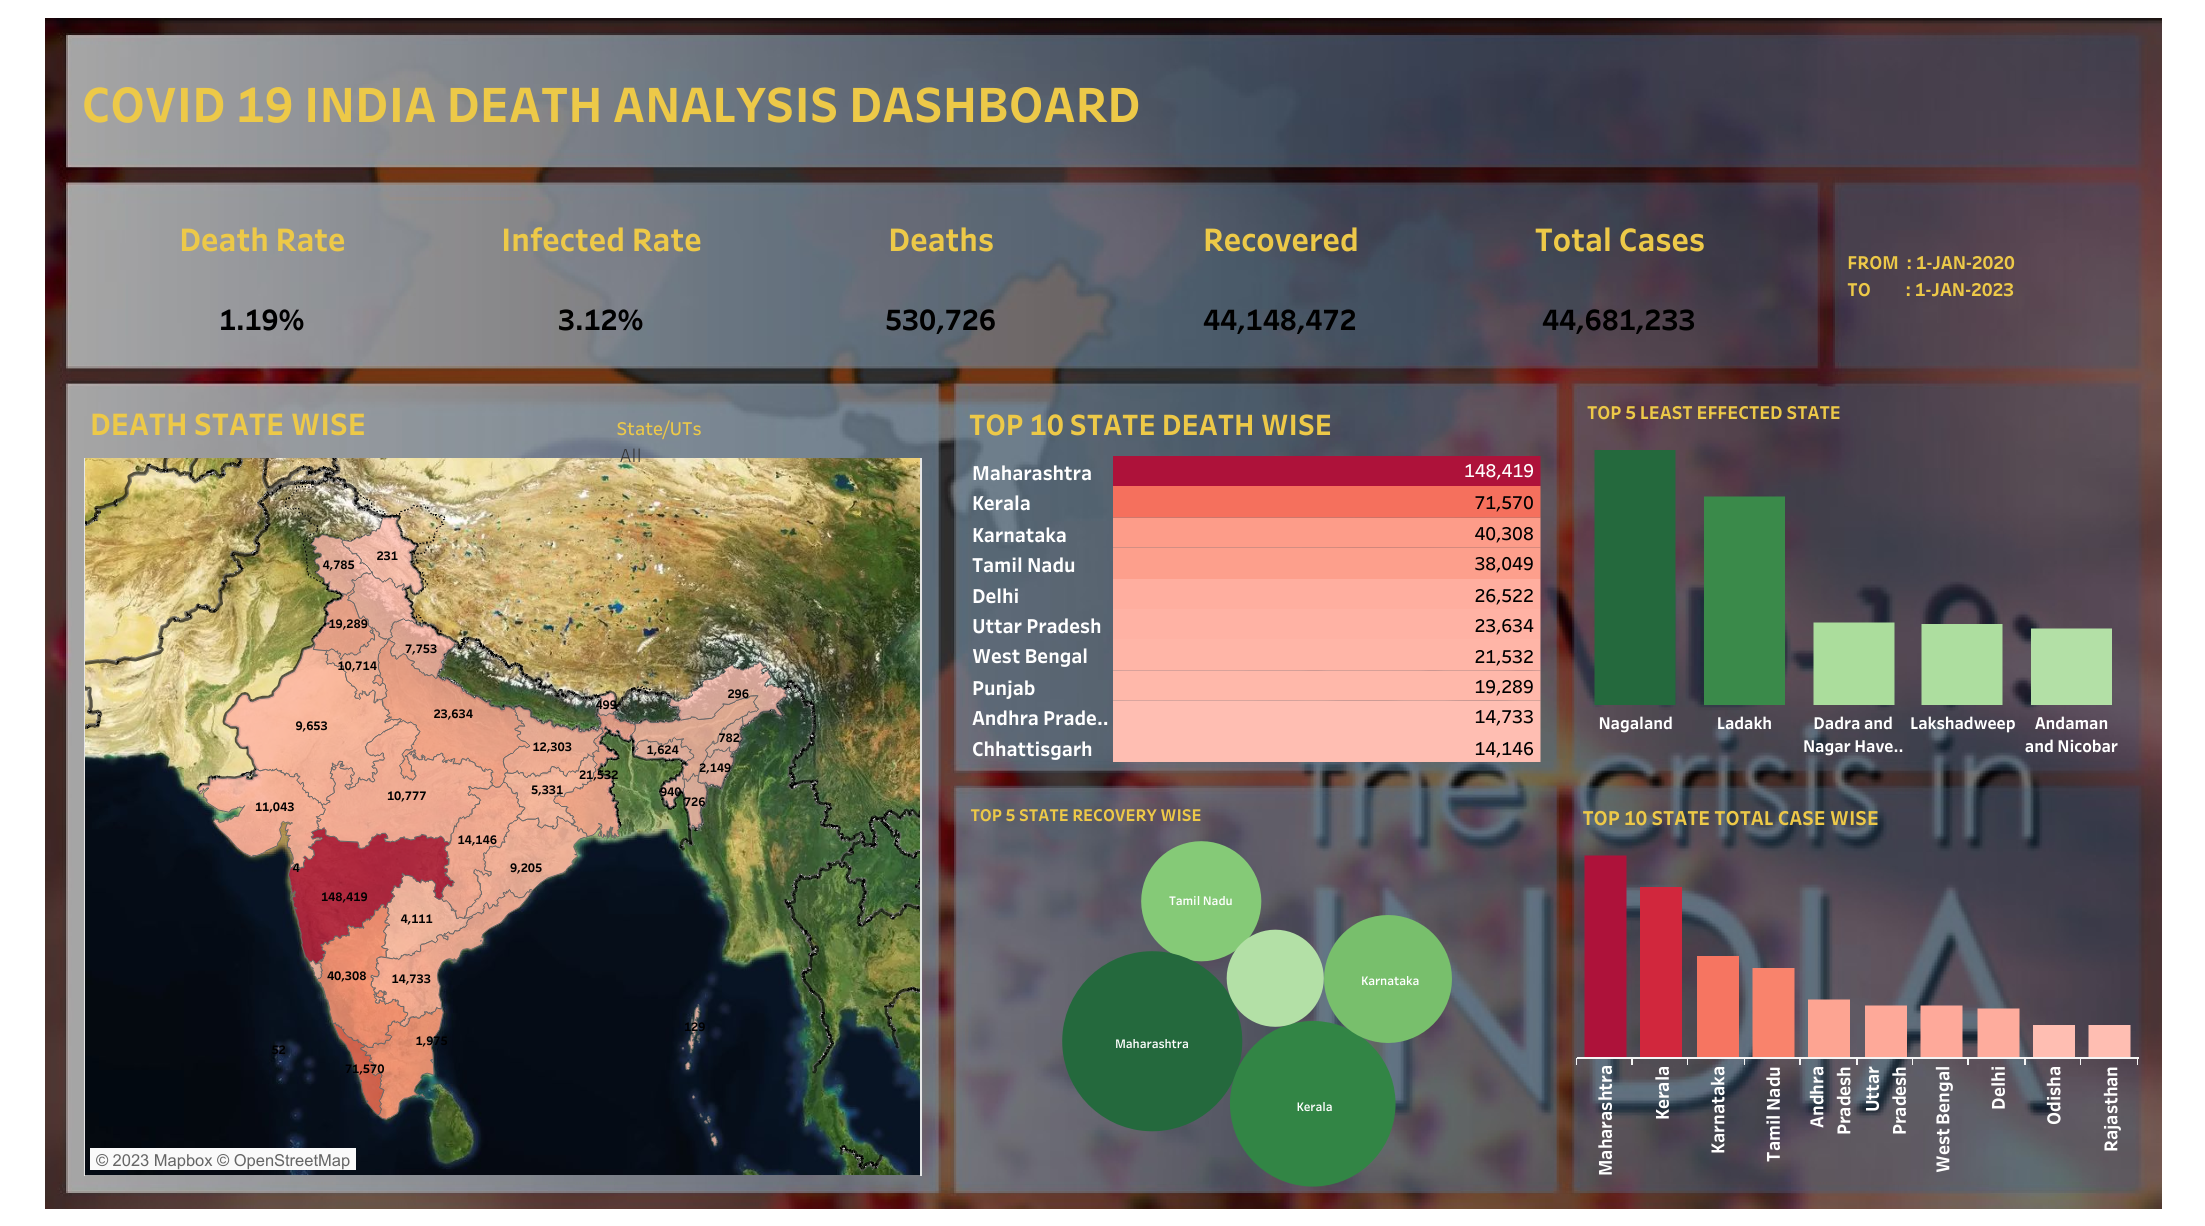

This screenshot's page, from the dashboard's own definition file:
{"tool":"tableau","page":{"name":"DASHBOARD ","canvas":[1471,818],"ordinal":0},"visuals":[{"type":"image","param":"Image/Slide1.JPG","box":[8,8,1455,802]},{"type":"text","box":[52,25,1161,85]},{"type":"text","box":[1229,127,192,111]},{"type":"worksheet","title":"KPI","mark":"Automatic","box":[61.8,130,1131.7,108]},{"type":"worksheet","title":"TOP 5 LEAST EFFECTED STATE","mark":"Automatic","rows":["Total Cases"],"cols":["State/UTs"],"box":[1054,259,363,251]},{"type":"worksheet","title":"DEATH STATE WISE ","mark":"Multipolygon","box":[56,262,559,522]},{"type":"worksheet","title":"TOP 10 STATES DEATH WISE ","mark":"Square","rows":["State/UTs"],"box":[642.3,263,384.4,245]},{"type":"filter","title":"DEATH STATE WISE ","param":"[federated.1m9xwus0zbmcqk115ik8g1nnnmon].[none:State/UTs:nk]","box":[411,275,193,110]},{"type":"worksheet","title":"TOP 5 STATE RECOVERY WISE","mark":"Circle","box":[643,529,389,262]},{"type":"worksheet","title":"TOP 10 STATE TOTAL CASE WISE","mark":"Automatic","rows":["Total Cases"],"cols":["State/UTs"],"box":[1051,529,374,256]}]}

Visuals, with their boxes in screenshot pixels (x1, y1, x2, y2), scaled from the page's 1471x818 canvas onto the 2205x1226 screenshot:
image: {"left": 12, "top": 12, "right": 2193, "bottom": 1214}
text: {"left": 78, "top": 37, "right": 1818, "bottom": 165}
text: {"left": 1842, "top": 190, "right": 2130, "bottom": 357}
"KPI" worksheet: {"left": 93, "top": 195, "right": 1789, "bottom": 357}
"TOP 5 LEAST EFFECTED STATE" worksheet: {"left": 1580, "top": 388, "right": 2124, "bottom": 764}
"DEATH STATE WISE " worksheet (Multipolygon marks): {"left": 84, "top": 393, "right": 922, "bottom": 1175}
"TOP 10 STATES DEATH WISE " worksheet (Square marks): {"left": 963, "top": 394, "right": 1539, "bottom": 761}
"DEATH STATE WISE " filter: {"left": 616, "top": 412, "right": 905, "bottom": 577}
"TOP 5 STATE RECOVERY WISE" worksheet (Circle marks): {"left": 964, "top": 793, "right": 1547, "bottom": 1186}
"TOP 10 STATE TOTAL CASE WISE" worksheet: {"left": 1575, "top": 793, "right": 2136, "bottom": 1177}
